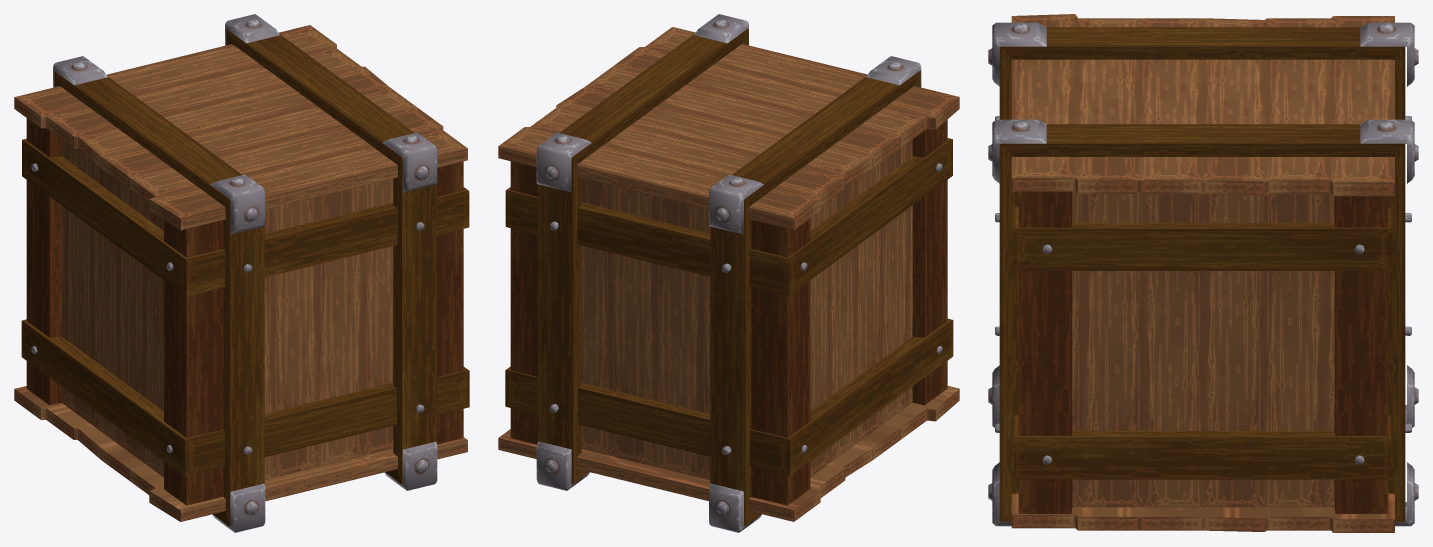
Rendered from Crate_Wooden.gltf.
The picture shows the model from 3 angles, left to right: view 1: azimuth 30°, elevation 25°; view 2: azimuth 150°, elevation 25°; view 3: azimuth 270°, elevation 25°; orthographic projection. The views are drawn at different scales.
Parts seen in each view (by area): view 1: Crate_Wooden; view 2: Crate_Wooden; view 3: Crate_Wooden.
Part boxes in pixels (box(x1,y1,x2,y2)): Crate_Wooden: box(14, 14, 469, 532); Crate_Wooden: box(498, 14, 959, 532); Crate_Wooden: box(988, 14, 1418, 532).
Bounding box in the file's own units: 0.8423 × 0.9309 × 0.9083.
Materials: 2 (2 with a texture image).
